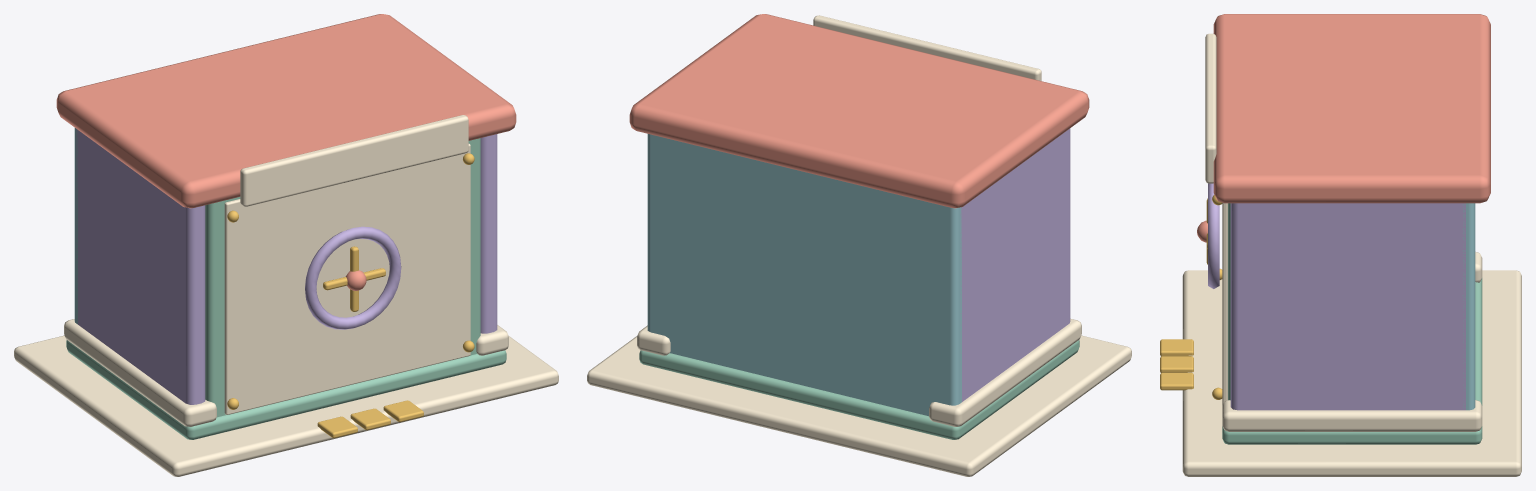
Rendered from landing-vault.glb.
3 views of the same model, side by side, from view 1: azimuth 30°, elevation 25°; view 2: azimuth 150°, elevation 25°; view 3: azimuth 270°, elevation 25° (orthographic). The views are drawn at different scales.
Parts seen in each view (by area): view 1: LivingVault, VaultDoor, VaultHandle; view 2: LivingVault; view 3: LivingVault, VaultDoor.
Boxes of the visible parts, bbox=[...] form: LivingVault: bbox=[14, 14, 558, 476]; VaultDoor: bbox=[205, 138, 480, 417]; VaultHandle: bbox=[323, 246, 385, 311]; LivingVault: bbox=[587, 14, 1131, 476]; LivingVault: bbox=[1160, 14, 1521, 476]; VaultDoor: bbox=[1208, 183, 1230, 405].
Bounding box in the file's own units: 8.2 × 5.69 × 6.4.
